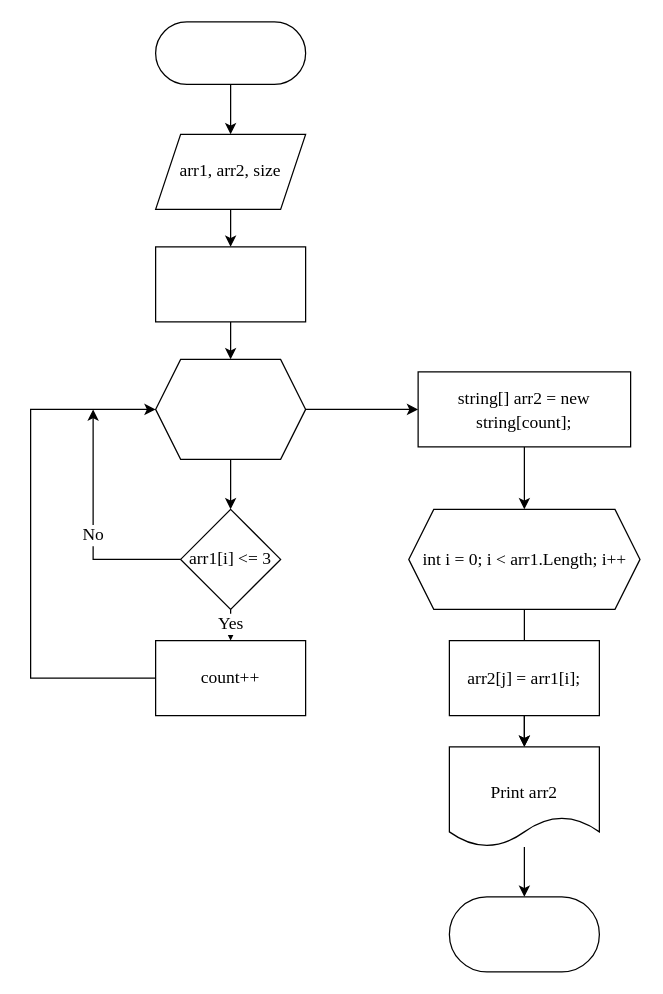
Image size: 663x994. Some labels were removed from this diagram. Here are the shapes that lost their labels. From the top down, the centre of each, then its label:
(x=230, y=52): Start
(x=230, y=284): count = 0; maxNum = 3
(x=230, y=408): i = 0, i < size
(x=523, y=934): Finish
